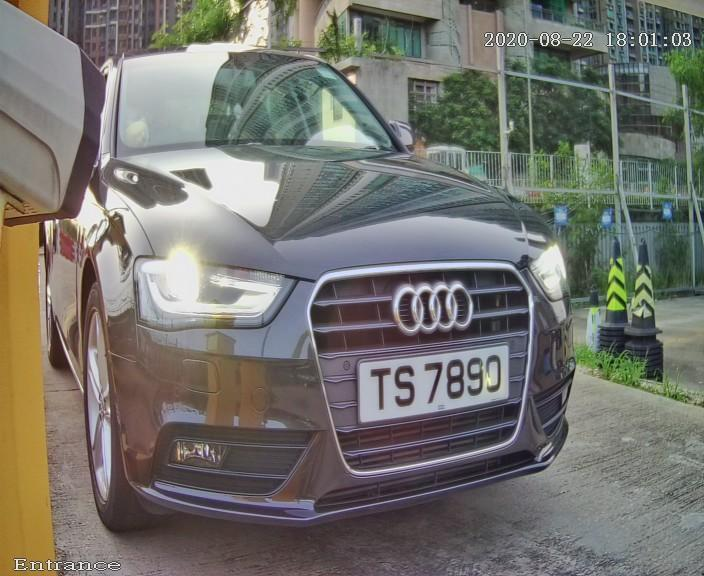Car: (16, 13, 620, 551)
License Plate: (330, 326, 528, 437)
